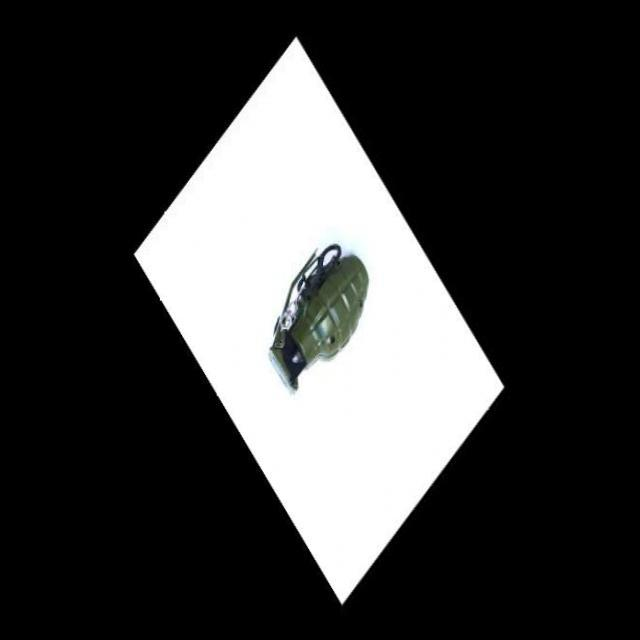grenade: (264, 237, 386, 406)
